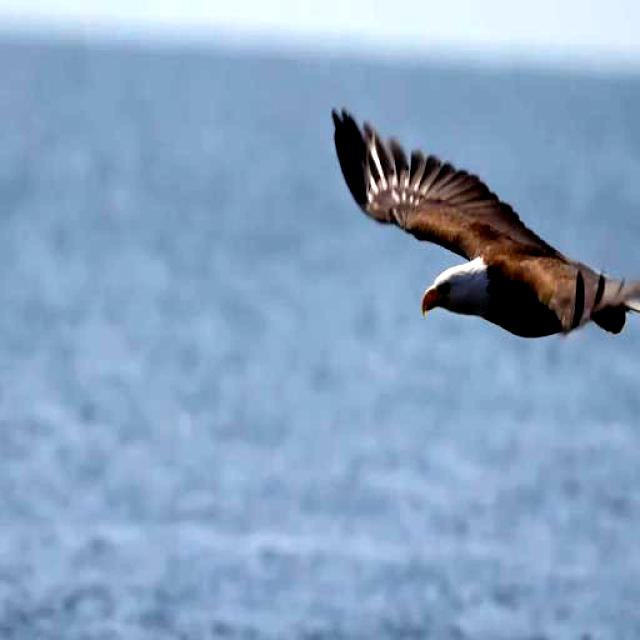airplane: (319, 78, 640, 374)
